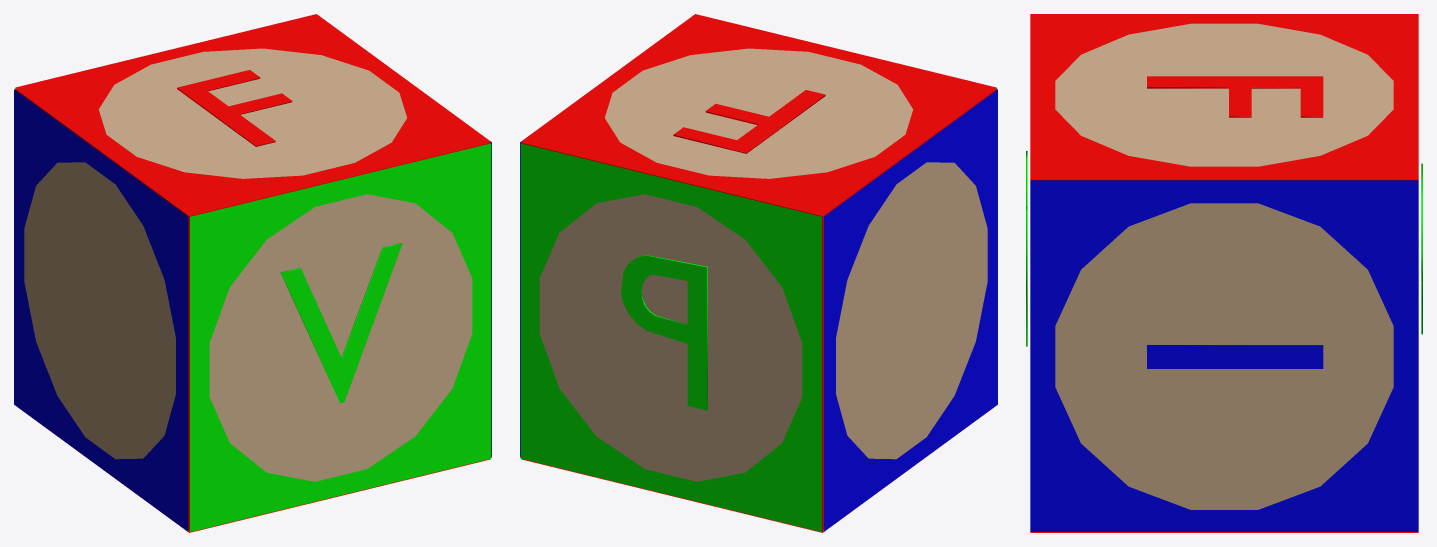
3 views of the same model, side by side, from view 1: azimuth 30°, elevation 25°; view 2: azimuth 150°, elevation 25°; view 3: azimuth 270°, elevation 25° (orthographic). The views are drawn at different scales.
Parts seen in each view (by area): view 1: cube; view 2: cube; view 3: cube.
Part boxes in pixels (x1,y1,x2,y2): cube: [14, 14, 491, 532]; cube: [520, 14, 997, 532]; cube: [1026, 14, 1422, 532].
Bounding box in the file's own units: 0.0458 × 0.046 × 0.046.
